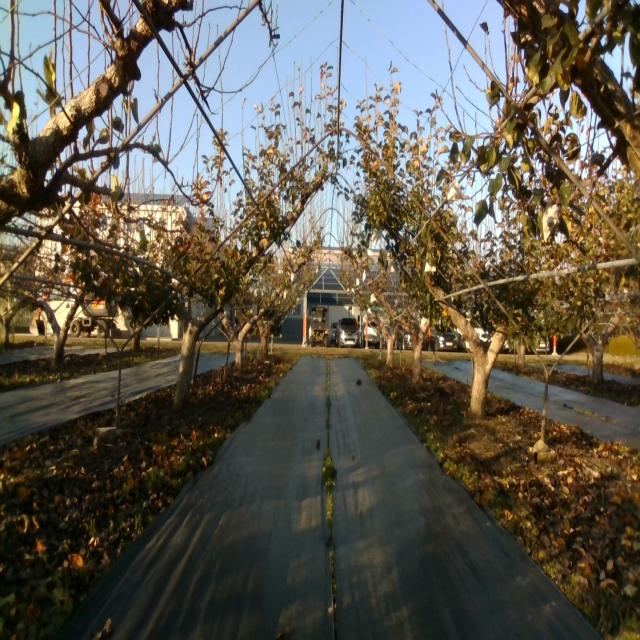pearbags: (543, 202, 560, 241), (177, 205, 194, 238), (448, 180, 463, 202)
